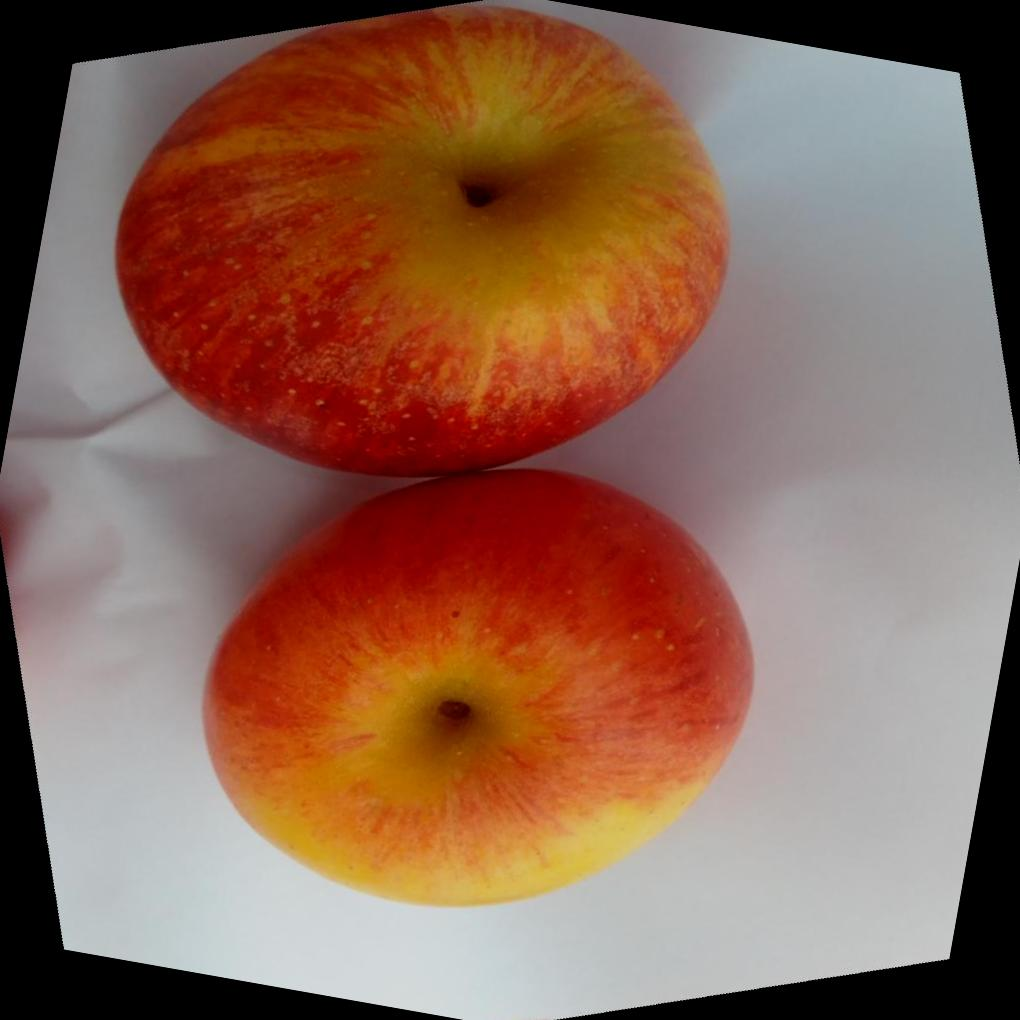FreshGuava: (111, 0, 756, 906)
